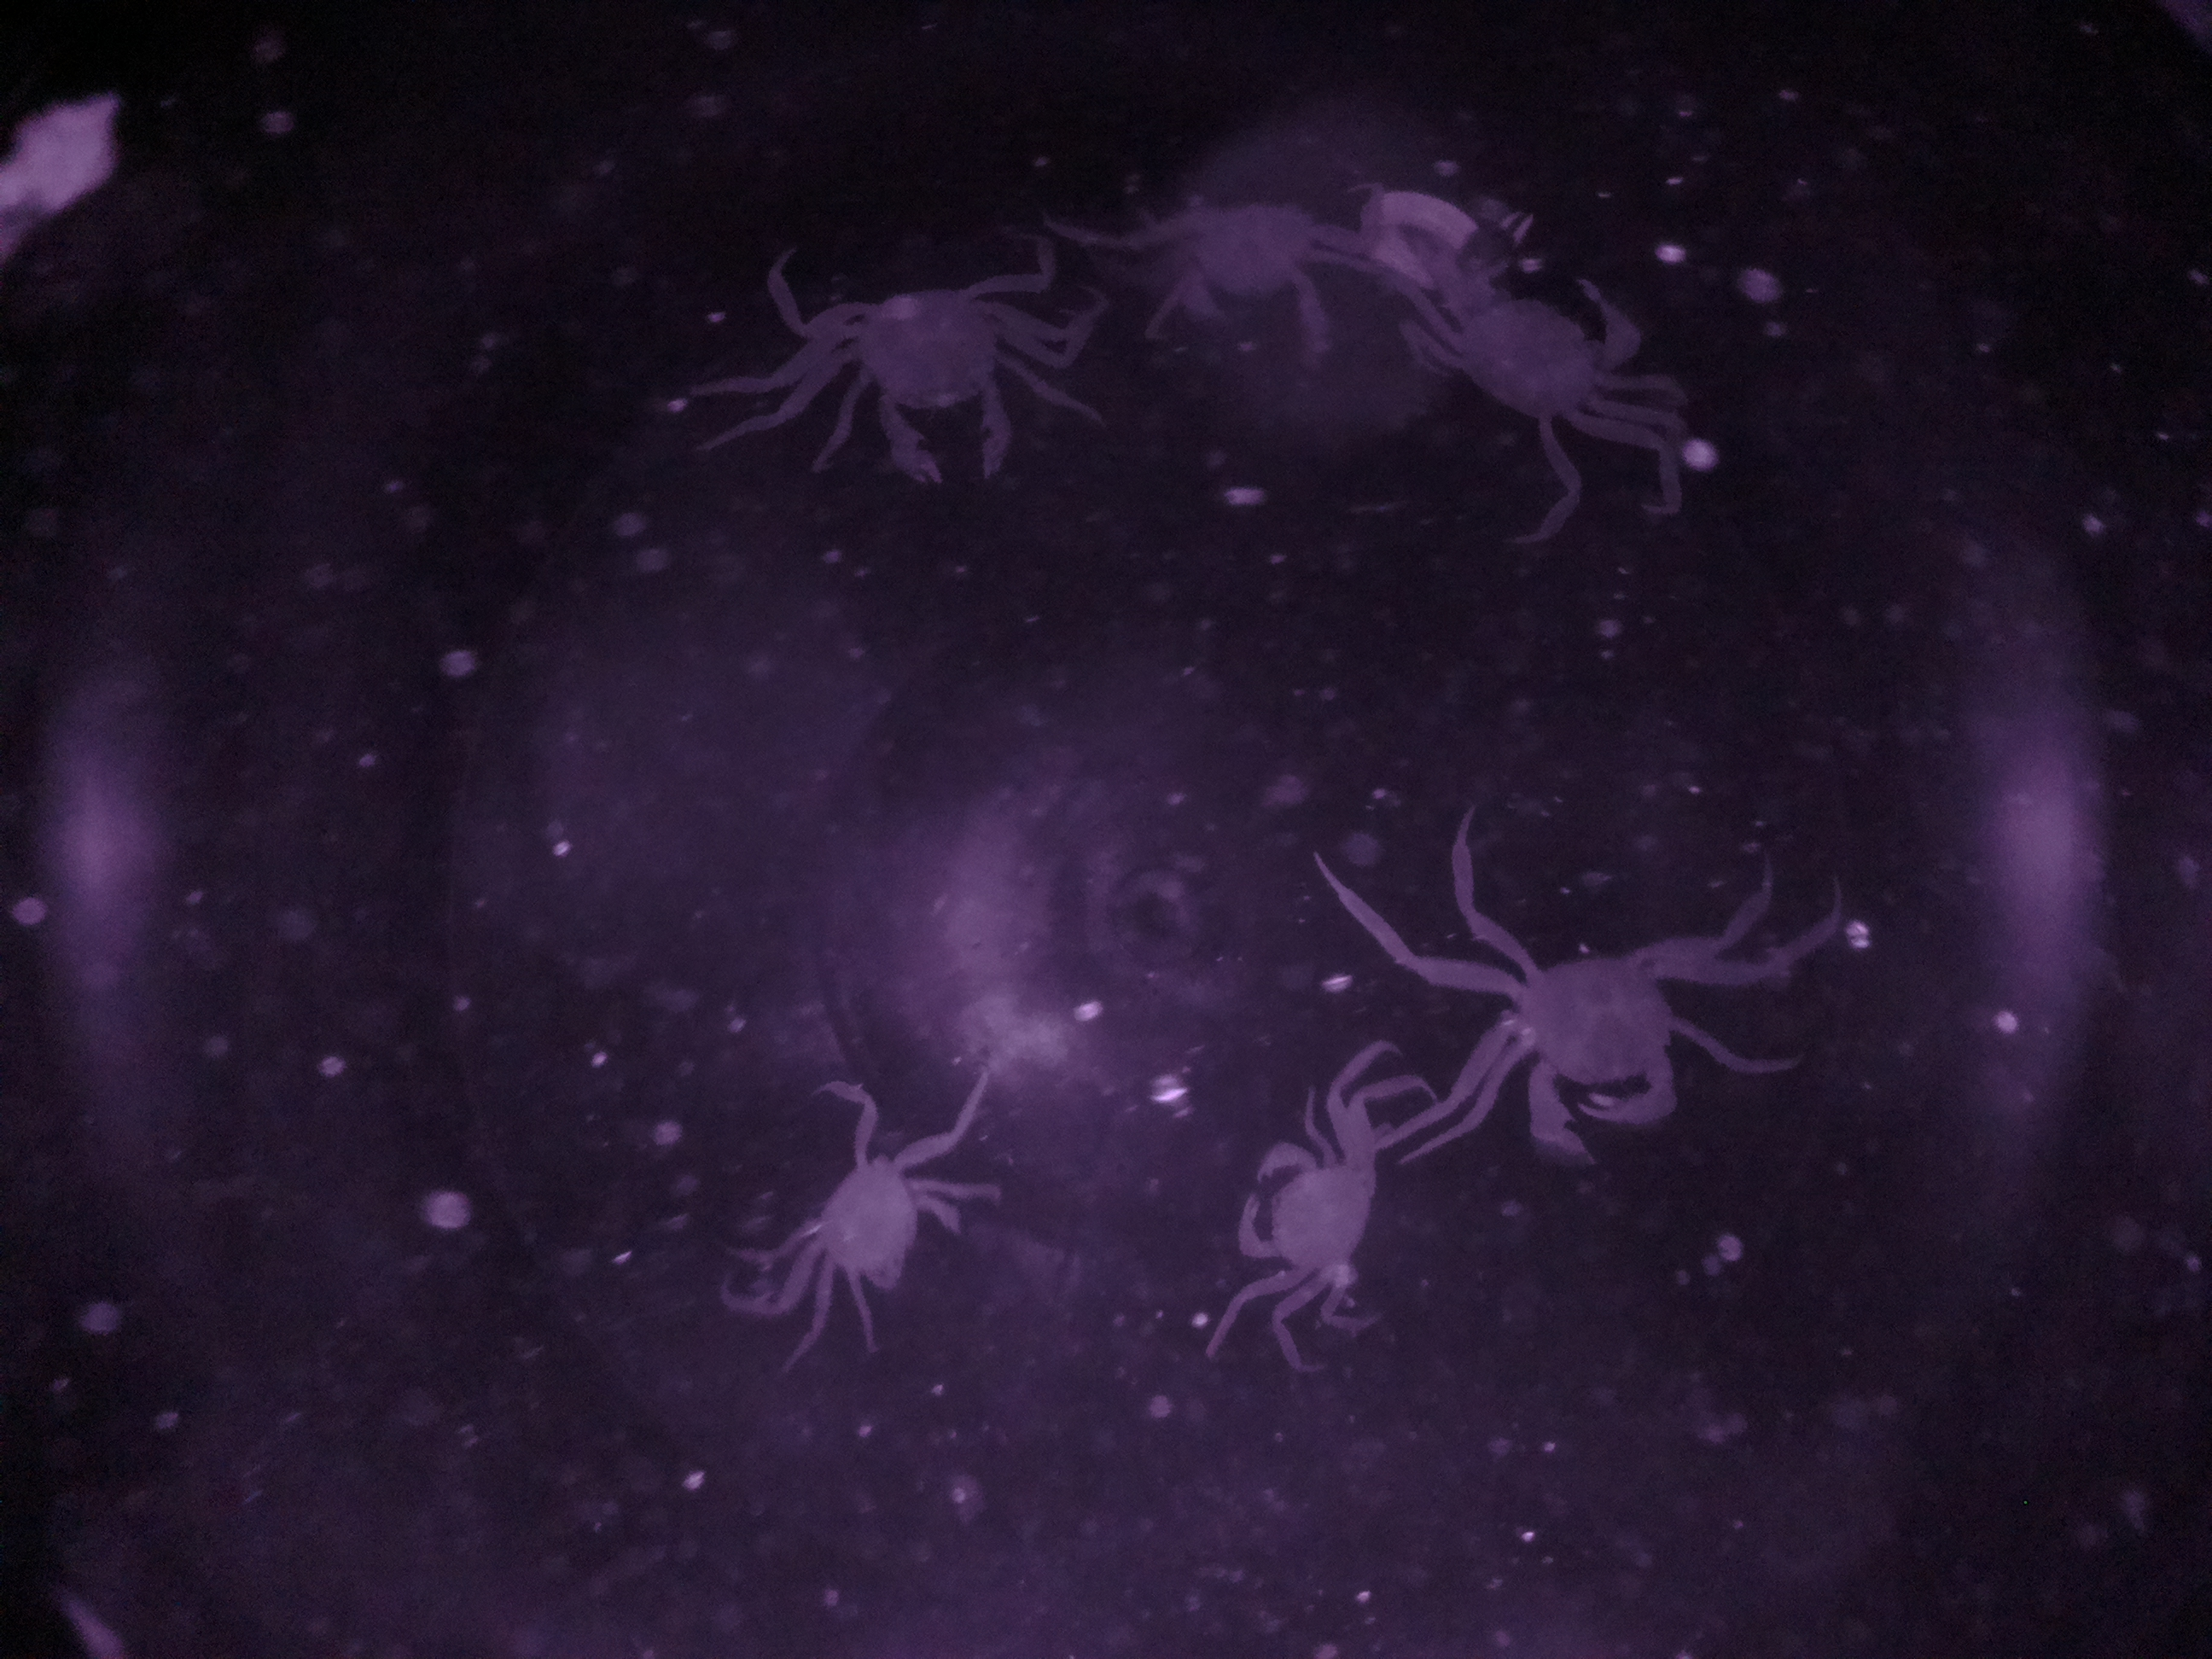Crab: (1420, 908, 1770, 1166), (786, 260, 1089, 507), (763, 1103, 988, 1340), (1228, 1068, 1418, 1342)
